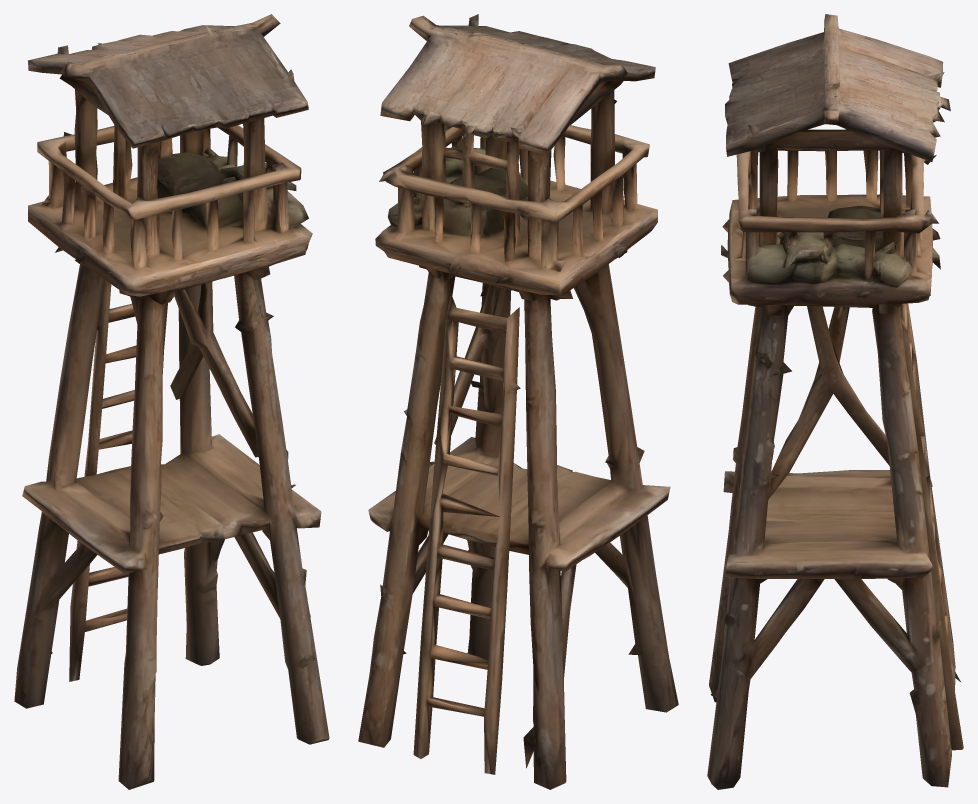
File: b_tower.glb
3 views of the same model, side by side, from view 1: azimuth 30°, elevation 25°; view 2: azimuth 150°, elevation 25°; view 3: azimuth 270°, elevation 25° (orthographic).
Parts seen in each view (by area): view 1: tripo_node_4ffff82a-dc1d-4449-b5c1-7622eeead012; view 2: tripo_node_4ffff82a-dc1d-4449-b5c1-7622eeead012; view 3: tripo_node_4ffff82a-dc1d-4449-b5c1-7622eeead012.
Boxes of the visible parts, <box> form: tripo_node_4ffff82a-dc1d-4449-b5c1-7622eeead012: <box>14,14,329,789</box>; tripo_node_4ffff82a-dc1d-4449-b5c1-7622eeead012: <box>358,14,678,789</box>; tripo_node_4ffff82a-dc1d-4449-b5c1-7622eeead012: <box>707,14,963,789</box>.
Size of the model in its own units: 0.3305 by 1 by 0.3419.
Materials: 1 (1 with a texture image).
